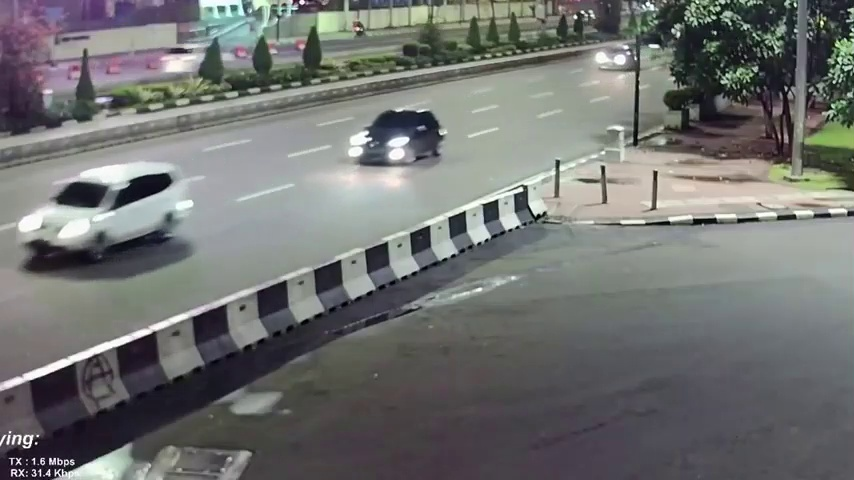car: (24, 159, 193, 262), (358, 104, 443, 167), (596, 44, 633, 73)
